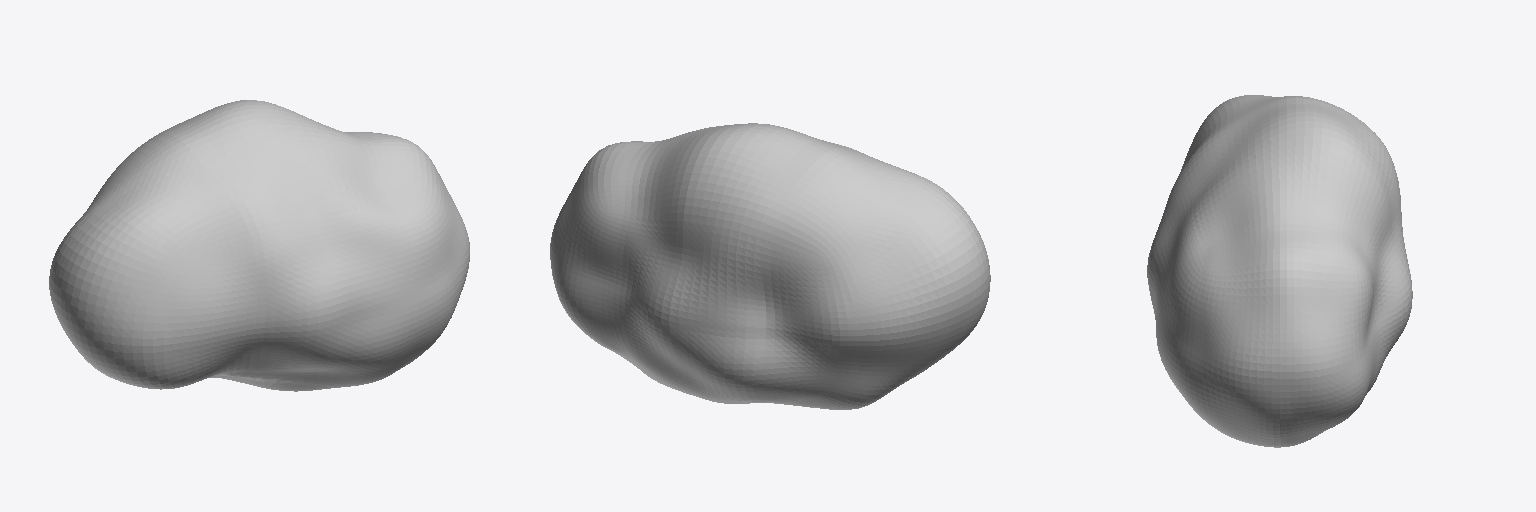
File: Stein1.obj
3 views of the same model, side by side, from view 1: azimuth 30°, elevation 25°; view 2: azimuth 150°, elevation 25°; view 3: azimuth 270°, elevation 25° (orthographic).
Parts seen in each view (by area): view 1: Cube_Cube.002; view 2: Cube_Cube.002; view 3: Cube_Cube.002.
Part boxes in pixels (x1,y1,x2,y2): Cube_Cube.002: (49, 100, 469, 391); Cube_Cube.002: (550, 123, 990, 409); Cube_Cube.002: (1147, 95, 1412, 447).
Size of the model in its own units: 2.51 by 1.63 by 1.43.